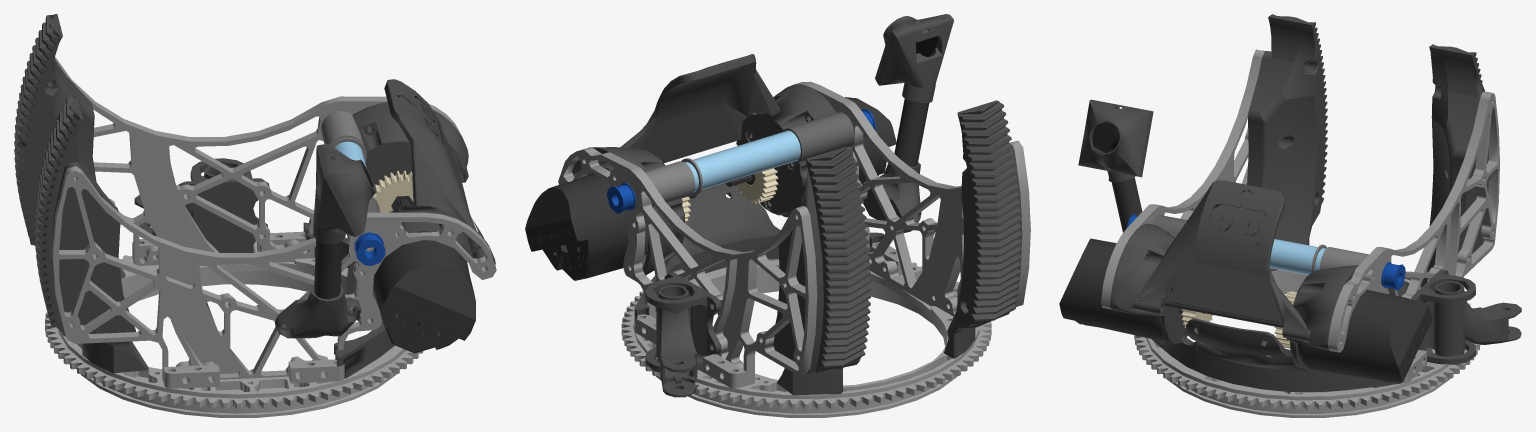
Rendered from 1690-turret.glb.
3 views of the same model, side by side, from view 1: azimuth 30°, elevation 25°; view 2: azimuth 150°, elevation 25°; view 3: azimuth 270°, elevation 25° (orthographic). The views are drawn at different scales.
Visible parts, largest first — view 1: 1690-26-423-07A-Mirrored, 1690-26-431-01A-Mirrored, 1690-26-433-03A, Kraken X60 Brushless Motor, 1690-26-431-09A 28T, 1690-26-431-12A, Part 124; view 2: 1690-26-423-07A-Mirrored, 1690-26-431-01A-Mirrored, 1690-26-433-03A, Kraken X60 Brushless Motor, Part 122, 1690-26-431-11A, 1690-26-431-12A, 1690-26-431-09A 28T, Part 124; view 3: 1690-26-423-07A-Mirrored, 1690-26-431-01A-Mirrored, Kraken X60 Brushless Motor, 1690-26-433-03A, Part 122, 1690-26-431-12A, Part 117, Part 124, 1690-26-431-09A 28T, 1690-26-431-11A.
Part boxes in pixels (x1,y1,x2,y2): 1690-26-423-07A-Mirrored: (14, 14, 495, 378); 1690-26-431-01A-Mirrored: (52, 57, 496, 388); 1690-26-433-03A: (45, 241, 423, 417); Kraken X60 Brushless Motor: (314, 196, 475, 353); 1690-26-431-09A 28T: (373, 170, 413, 212); 1690-26-431-12A: (321, 111, 363, 152); Part 124: (354, 232, 385, 265); 1690-26-423-07A-Mirrored: (572, 14, 1022, 397); 1690-26-431-01A-Mirrored: (558, 81, 1030, 388); 1690-26-433-03A: (621, 258, 991, 417); Kraken X60 Brushless Motor: (525, 97, 929, 280); Part 122: (685, 130, 800, 192); 1690-26-431-11A: (782, 112, 854, 163); 1690-26-431-12A: (644, 161, 695, 207); 1690-26-431-09A 28T: (682, 168, 778, 223); Part 124: (607, 109, 876, 213); 1690-26-423-07A-Mirrored: (1078, 14, 1521, 392); 1690-26-431-01A-Mirrored: (1101, 49, 1499, 382); Kraken X60 Brushless Motor: (1059, 177, 1432, 383); 1690-26-433-03A: (1134, 270, 1481, 417); Part 122: (1162, 228, 1325, 274); 1690-26-431-12A: (1319, 247, 1368, 269); Part 117: (1092, 122, 1119, 152); Part 124: (1127, 214, 1405, 290); 1690-26-431-09A 28T: (1181, 291, 1296, 348); 1690-26-431-11A: (1152, 215, 1187, 236).
Size of the model in its own units: 0.318 by 0.1914 by 0.3102.
